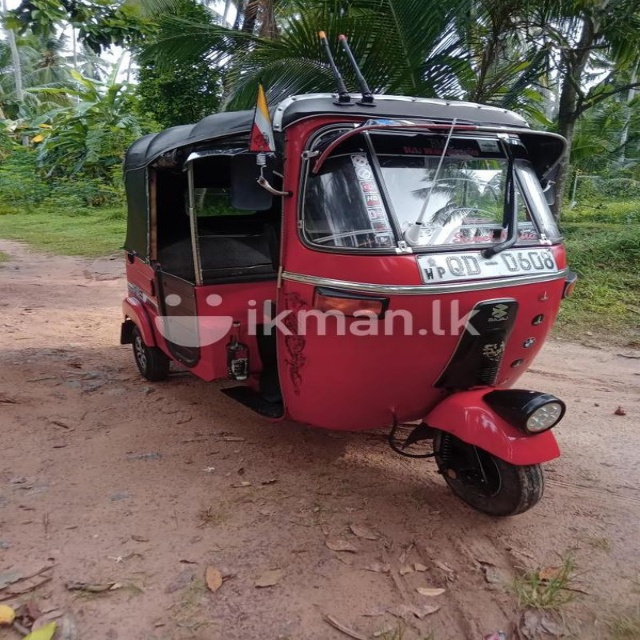Motorcycle: (124, 94, 580, 517)
